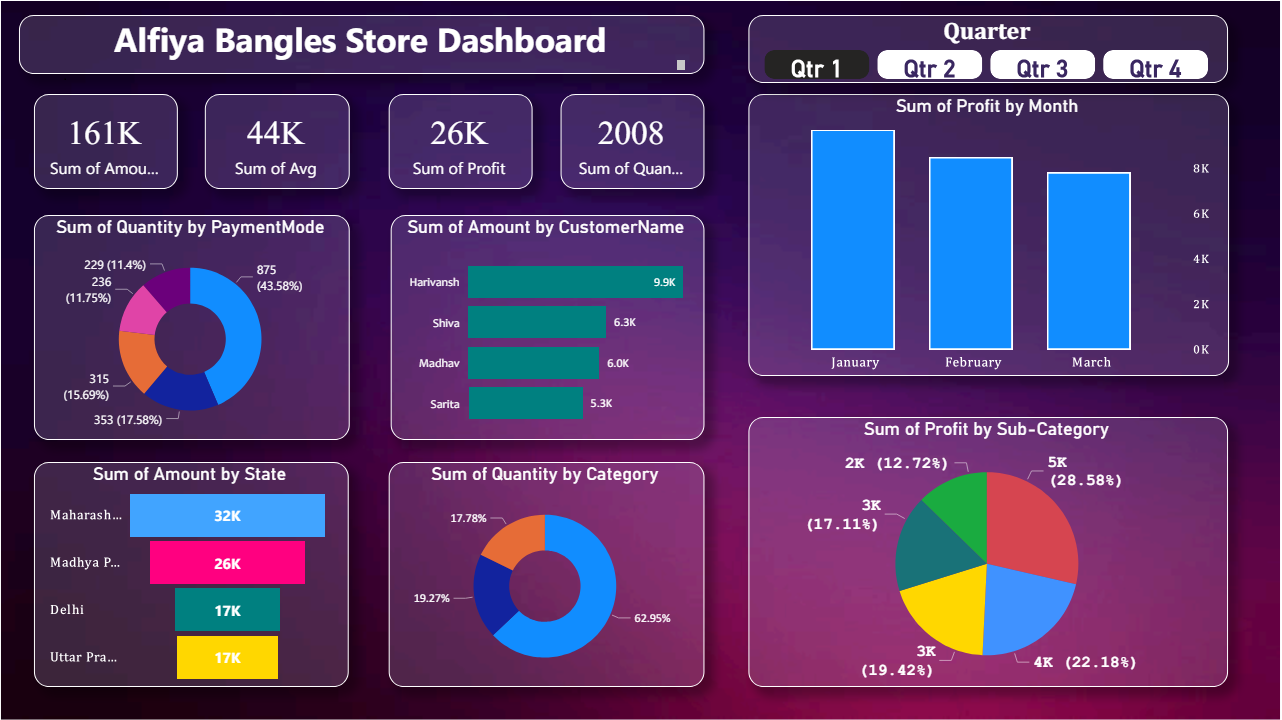

The dashboard page shown, as its layout file describes it:
{"tool":"powerbi","page":{"name":"Page 1","canvas":[1280,720],"ordinal":0},"visuals":[{"type":"columnChart","fields":{"Y":["Details.Profit"],"Category":["Orders.Order Date.Variation.Date Hierarchy.Month"]},"box":[747.6,92.9,481,282.1],"z":0},{"type":"textbox","title":"Alfiya Bangles Store Dashboard","box":[17.8,13.7,686.1,59],"z":1000},{"type":"pieChart","fields":{"Category":["Details.Sub-Category"],"Y":["Details.Profit"]},"box":[747.9,415.8,480.3,270.3],"z":2000},{"type":"donutChart","fields":{"Y":["Details.Quantity"],"Category":["Details.PaymentMode"]},"box":[32.9,214.1,315.6,225],"z":3000},{"type":"donutChart","fields":{"Category":["Details.Category"],"Y":["Details.Quantity"]},"box":[388.3,461.1,315.6,225],"z":4000},{"type":"funnel","fields":{"Category":["Orders.State"],"Y":["Details.Amount"]},"box":[32.9,461.1,315,225],"z":5000},{"type":"barChart","fields":{"Category":["Orders.CustomerName"],"Y":["Details.Amount"]},"box":[389.7,214.1,314.2,225],"z":6000},{"type":"card","fields":{"Values":["Details.Amount"]},"box":[32.9,93.3,144.1,94.7],"z":7000},{"type":"card","fields":{"Values":["Details.Avg"]},"box":[204.5,93.3,144.1,94.7],"z":8000},{"type":"card","fields":{"Values":["Details.Profit"]},"box":[388.3,93.3,144.1,94.7],"z":9000},{"type":"card","fields":{"Values":["Details.Quantity"]},"box":[559.9,93.3,144.1,94.7],"z":10000},{"type":"advancedSlicerVisual","fields":{"Values":["Orders.Order Date.Variation.Date Hierarchy.Quarter"]},"box":[747.9,13.7,480.3,68],"z":11000}]}

Visuals, with their boxes in screenshot pixels (x1, y1, x2, y2), scaled from the page's 1280x720 canvas onto the 1282x720 screenshot:
columnChart - Details.Profit x Orders.Order Date.Variation.Date Hierarchy.Month: (749,93,1231,375)
"Alfiya Bangles Store Dashboard" textbox: (18,14,705,73)
pieChart - Details.Sub-Category x Details.Profit: (749,416,1230,686)
donutChart - Details.Quantity x Details.PaymentMode: (33,214,349,439)
donutChart - Details.Category x Details.Quantity: (389,461,705,686)
funnel - Orders.State x Details.Amount: (33,461,348,686)
barChart - Orders.CustomerName x Details.Amount: (390,214,705,439)
card - Details.Amount: (33,93,177,188)
card - Details.Avg: (205,93,349,188)
card - Details.Profit: (389,93,533,188)
card - Details.Quantity: (561,93,705,188)
advancedSlicerVisual - Orders.Order Date.Variation.Date Hierarchy.Quarter: (749,14,1230,82)
